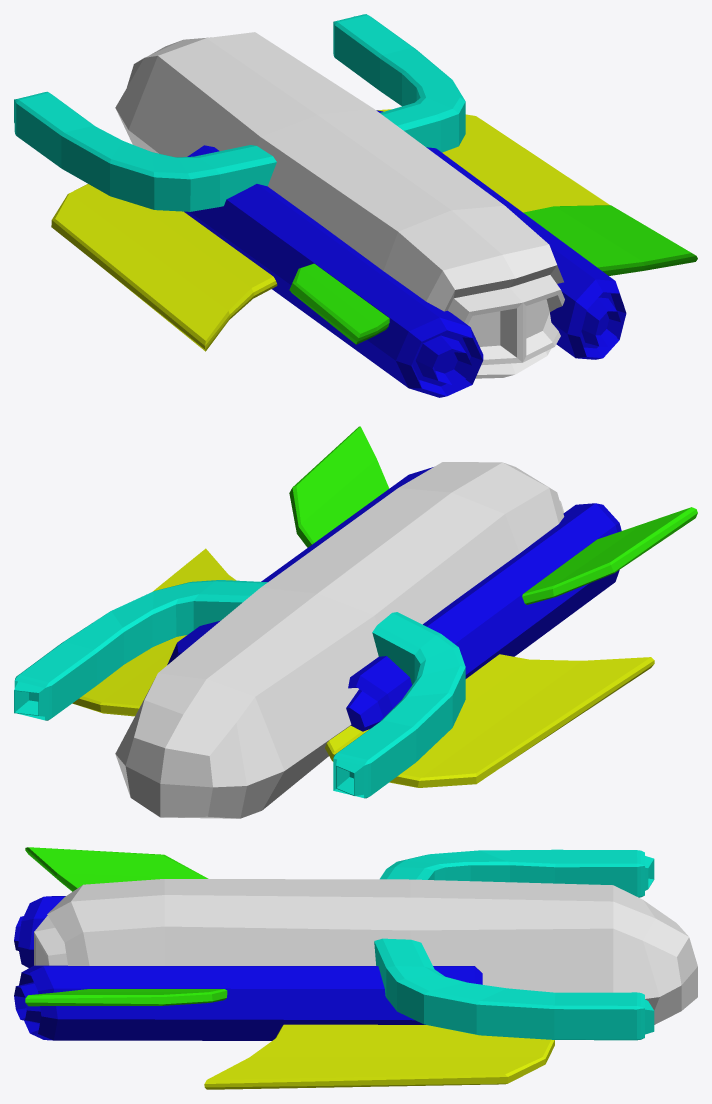
The model's file is Player Ship Type 1.fbx.
3 renders of one model, top to bottom at view 1: azimuth 30°, elevation 25°; view 2: azimuth 150°, elevation 25°; view 3: azimuth 270°, elevation 25°, orthographic. The views are drawn at different scales.
Visible parts, largest first — view 1: Cube; view 2: Cube; view 3: Cube.
Boxes of the visible parts, x1,y1,x2,y2 form: Cube: (14,14,697,397); Cube: (14,426,697,818); Cube: (14,847,697,1089).
Size of the model in its own units: 351 by 102 by 505.
